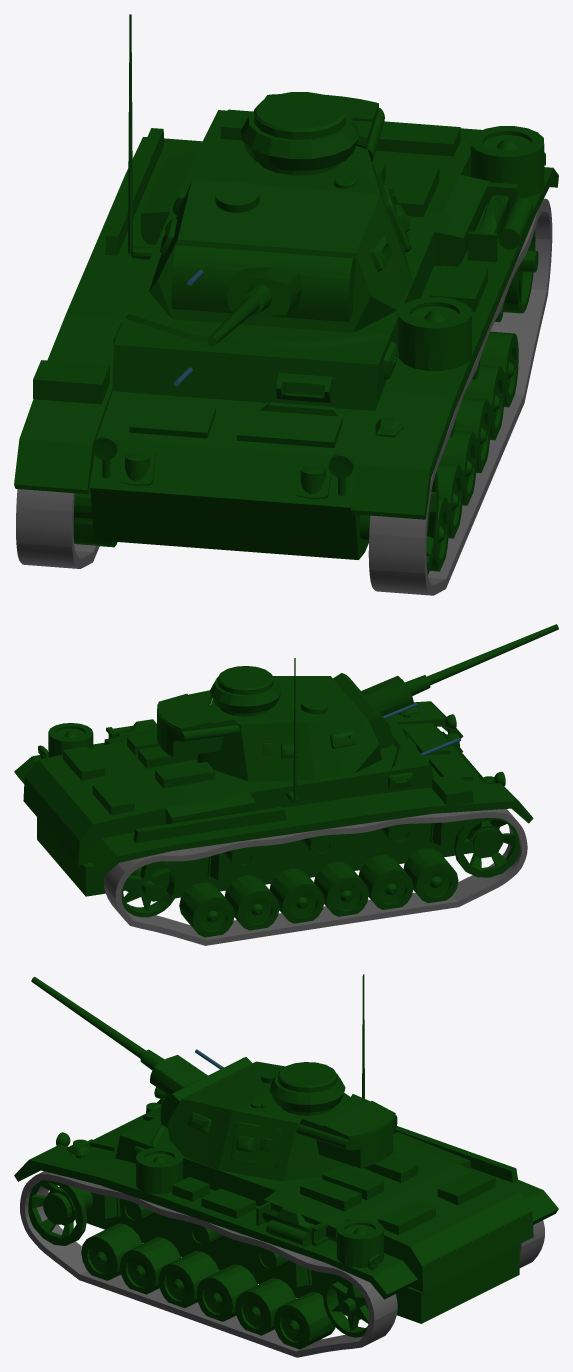
Rendered from Tank.FBX.
3 renders of one model, top to bottom at view 1: azimuth 30°, elevation 25°; view 2: azimuth 150°, elevation 25°; view 3: azimuth 270°, elevation 25°, orthographic. The views are drawn at different scales.
Visible parts, largest first — view 1: P3TRACKS002; view 2: P3TRACKS002; view 3: P3TRACKS002.
Part boxes in pixels (left/top/right/bottom): P3TRACKS002: left=14, top=14, right=558, bottom=595; P3TRACKS002: left=14, top=624, right=558, bottom=945; P3TRACKS002: left=14, top=974, right=558, bottom=1357.
Size of the model in its own units: 4.76 by 2.81 by 5.01.
